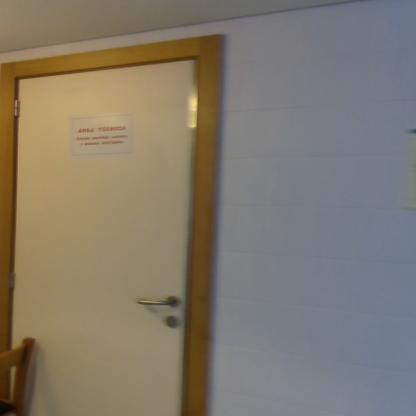door: (14, 75, 186, 416)
hinged: (7, 267, 20, 290), (10, 97, 24, 118)
lever: (133, 295, 180, 311)
